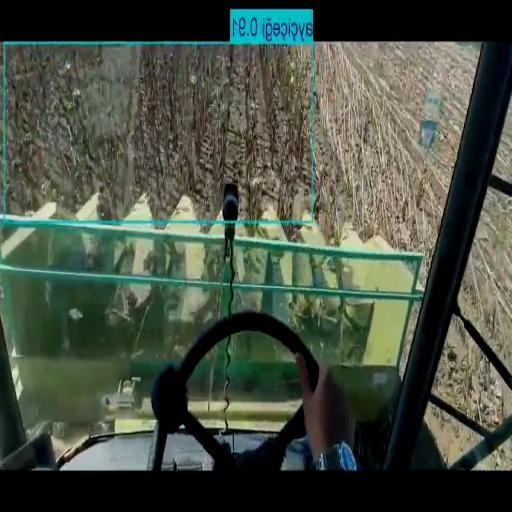ayc: (4, 45, 314, 220), (5, 45, 312, 219)
